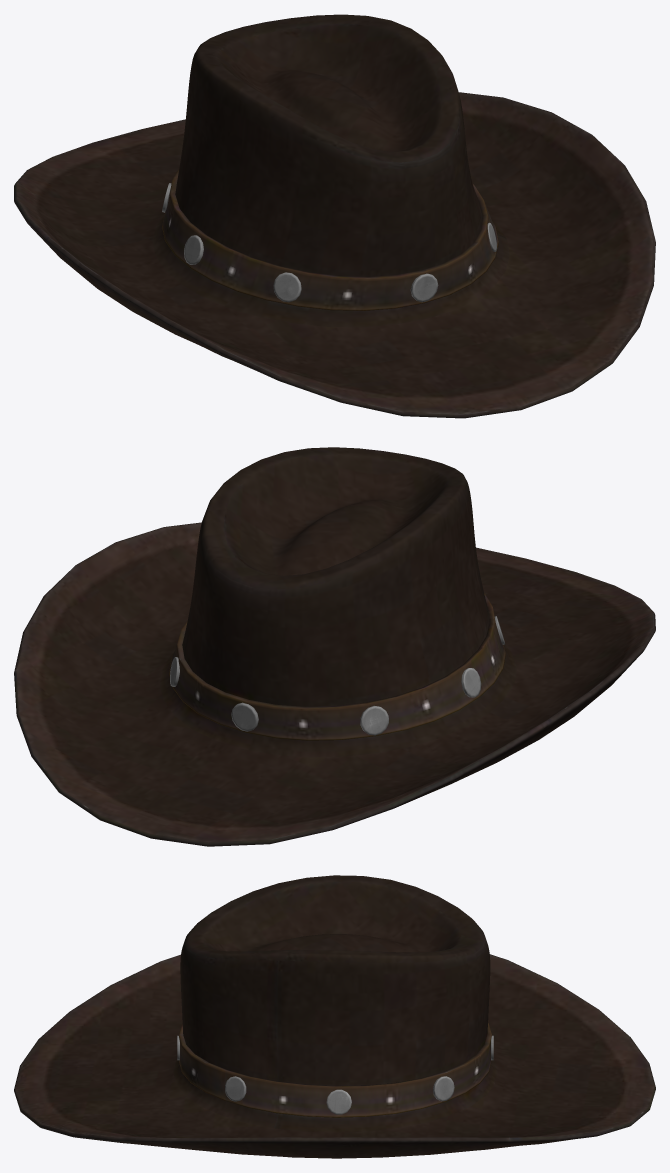
Rendered from hat.glb.
The picture shows the model from 3 angles, top to bottom: view 1: azimuth 30°, elevation 25°; view 2: azimuth 150°, elevation 25°; view 3: azimuth 270°, elevation 25°; orthographic projection. The views are drawn at different scales.
Parts seen in each view (by area): view 1: Object_2; view 2: Object_2; view 3: Object_2.
Part boxes in pixels (x1,y1,x2,y2): Object_2: (14,14,655,418); Object_2: (14,447,655,846); Object_2: (14,875,655,1158).
Bounding box in the file's own units: 4.56 × 1.77 × 5.79.
Materials: 1 (1 with a texture image).
